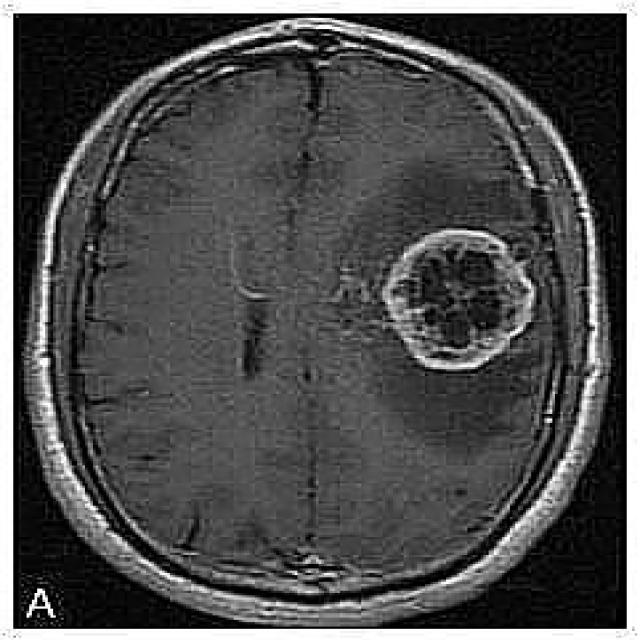Tumor-Cell: (382, 193, 534, 368)
